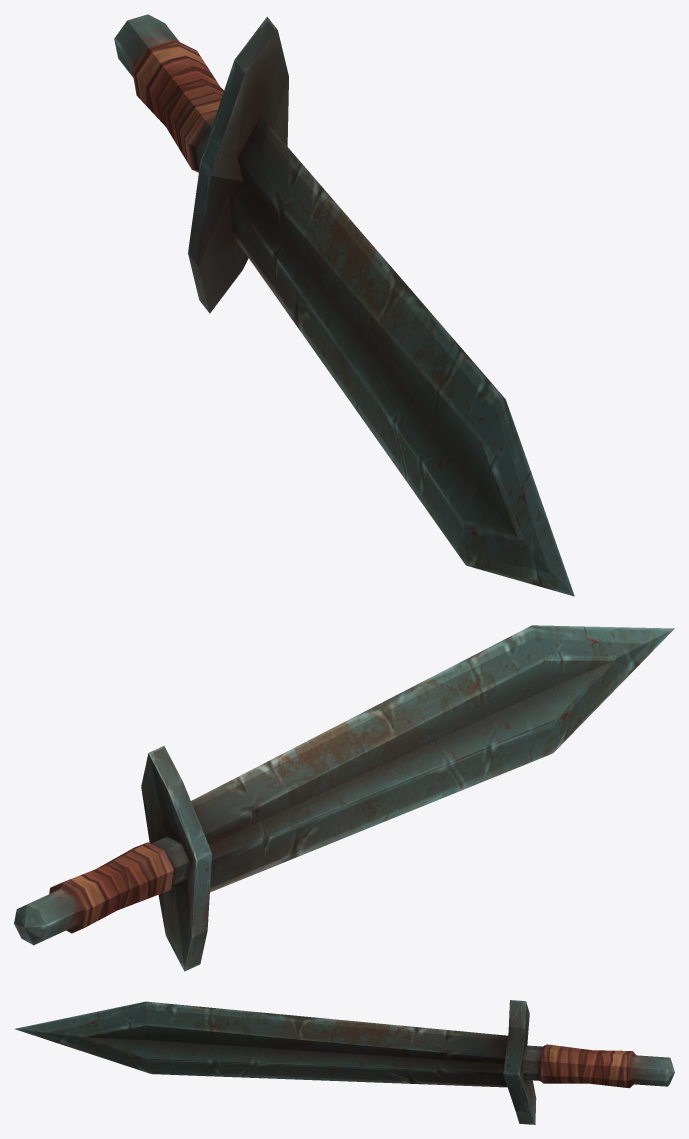
File: bigSwordInHand.FBX
The picture shows the model from 3 angles, top to bottom: view 1: azimuth 30°, elevation 25°; view 2: azimuth 150°, elevation 25°; view 3: azimuth 270°, elevation 25°; orthographic projection. The views are drawn at different scales.
Parts seen in each view (by area): view 1: oneHandedSword; view 2: oneHandedSword; view 3: oneHandedSword.
Boxes of the visible parts, bbox=[...] form: oneHandedSword: bbox=[114, 14, 574, 596]; oneHandedSword: bbox=[14, 625, 674, 971]; oneHandedSword: bbox=[15, 1000, 674, 1124].
Bounding box in the file's own units: 14.88 × 15.94 × 69.02.
